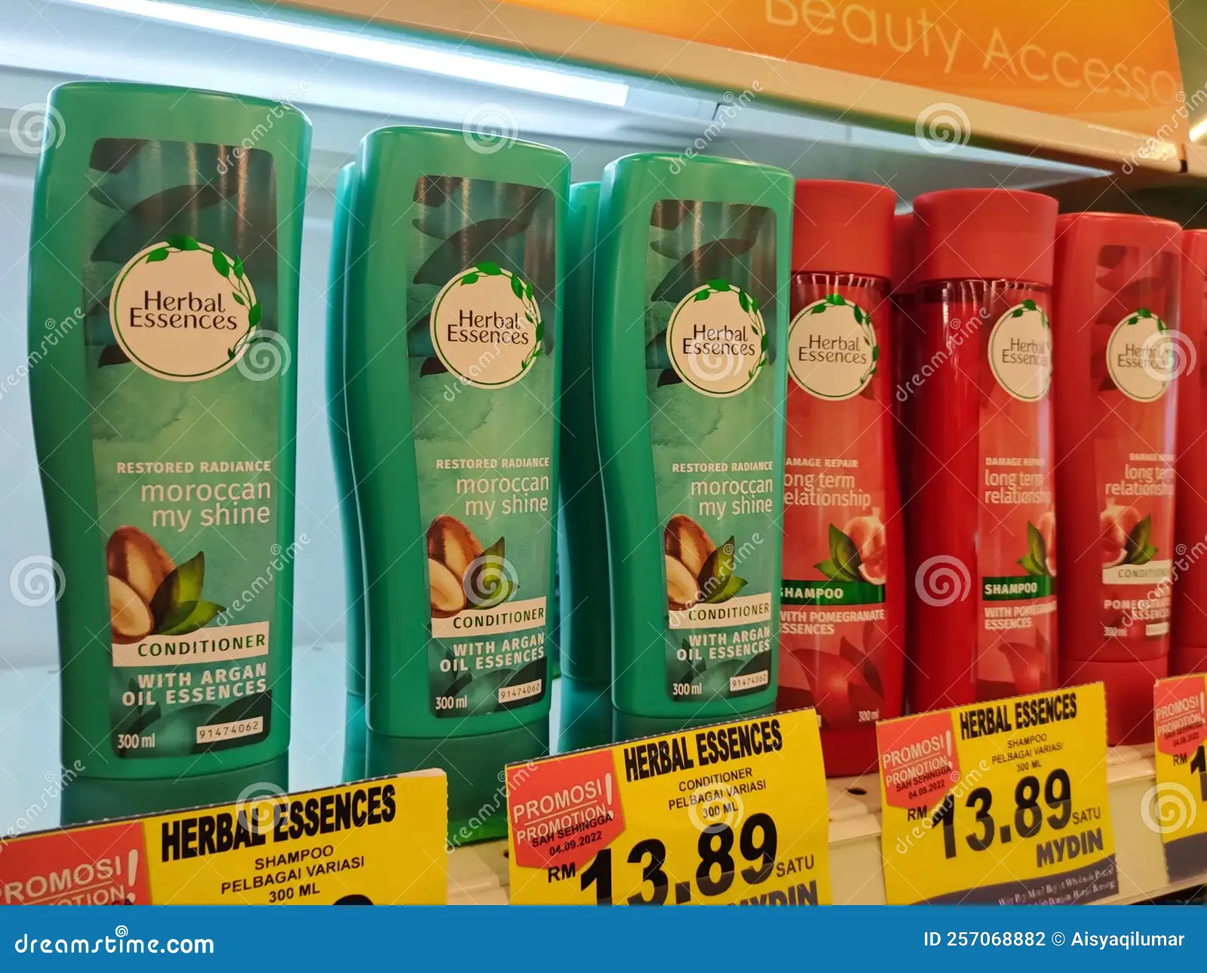Shampoo: (344, 127, 569, 816), (780, 182, 903, 773), (1055, 214, 1179, 738)
